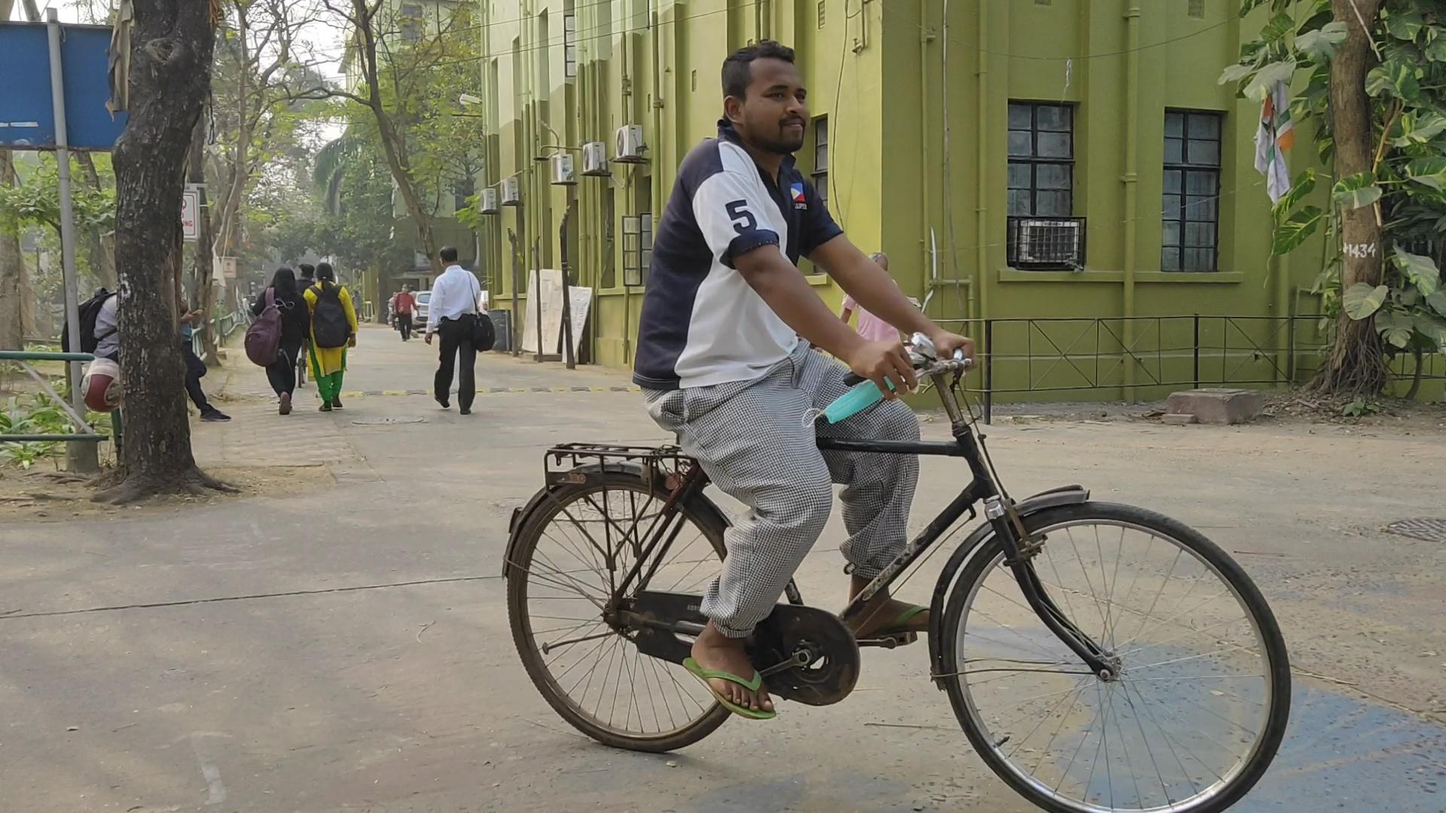bike: (500, 39, 1292, 813)
